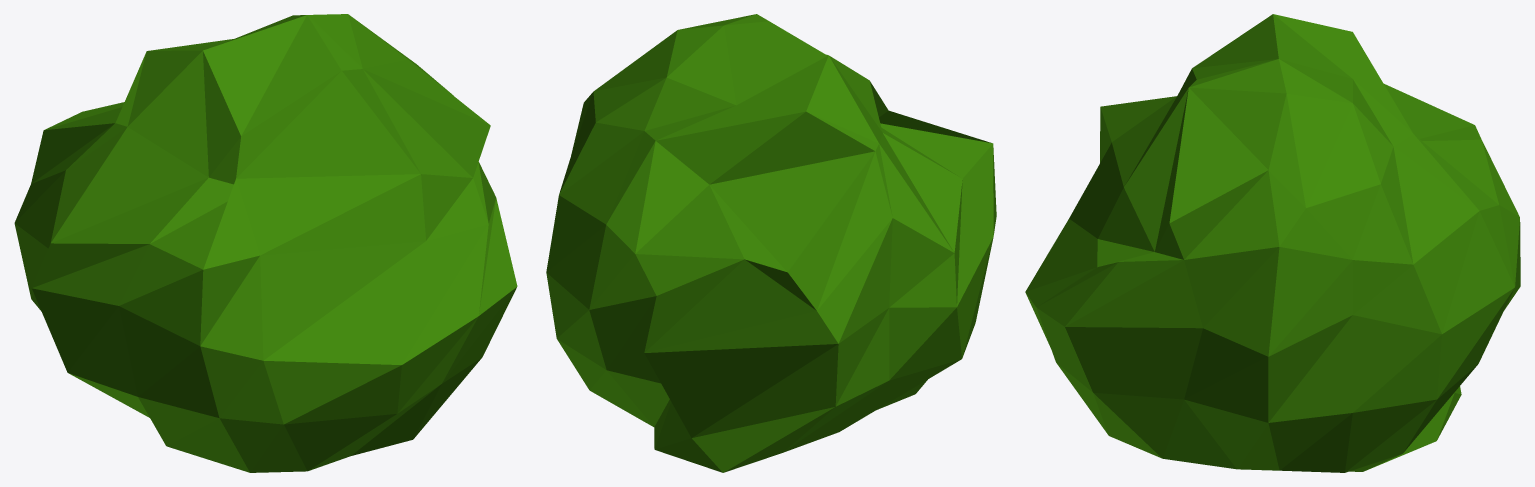
Rendered from bush big.fbx.
3 renders of one model, left to right at view 1: azimuth 30°, elevation 25°; view 2: azimuth 150°, elevation 25°; view 3: azimuth 270°, elevation 25°, orthographic. The views are drawn at different scales.
Visible parts, largest first — view 1: bush big; view 2: bush big; view 3: bush big.
Part boxes in pixels (left/top/right/bottom): bush big: left=14, top=14, right=517, bottom=472; bush big: left=546, top=14, right=996, bottom=472; bush big: left=1025, top=14, right=1520, bottom=472.
Size of the model in its own units: 11.8 by 10.92 by 11.92.
